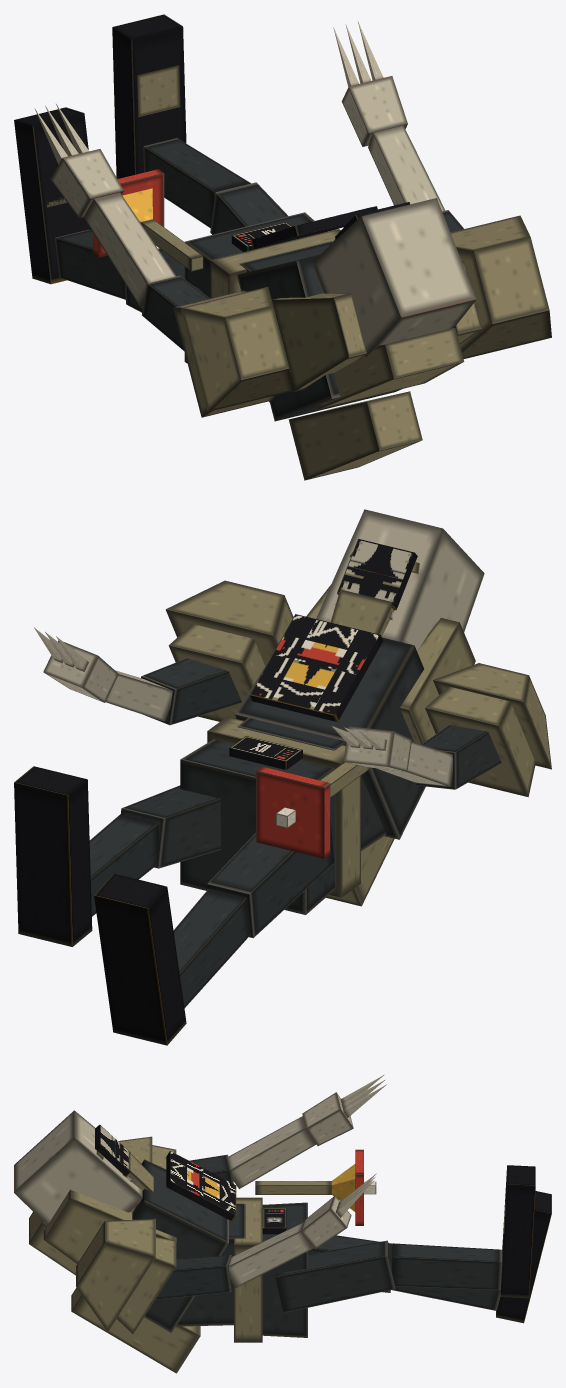
File: calmor_attack.obj
3 renders of one model, top to bottom at view 1: azimuth 30°, elevation 25°; view 2: azimuth 150°, elevation 25°; view 3: azimuth 270°, elevation 25°, orthographic. The views are drawn at different scales.
Visible parts, largest first — view 1: calmor_attack; view 2: calmor_attack; view 3: calmor_attack.
Boxes of the visible parts, x1,y1,x2,y2 form: calmor_attack: (14, 14, 551, 480); calmor_attack: (14, 509, 551, 1045); calmor_attack: (14, 1075, 551, 1373).
Bounding box in the file's own units: 0.5586 × 0.4982 × 1.
1 material, 1 textured.
